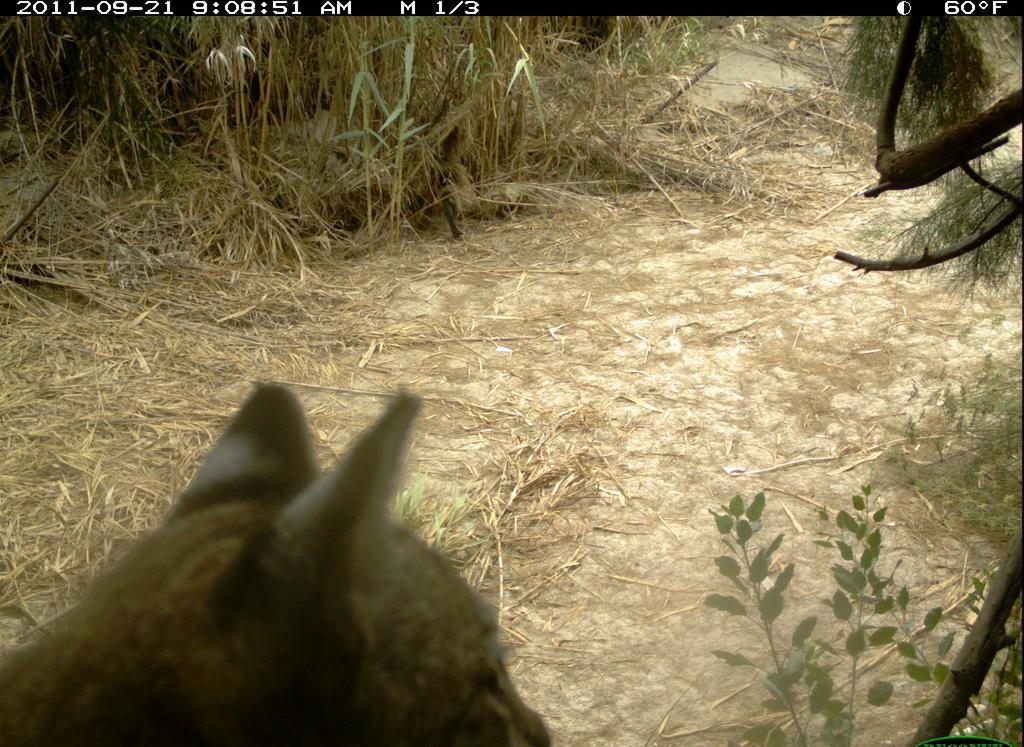bobcat: (1, 387, 557, 745)
